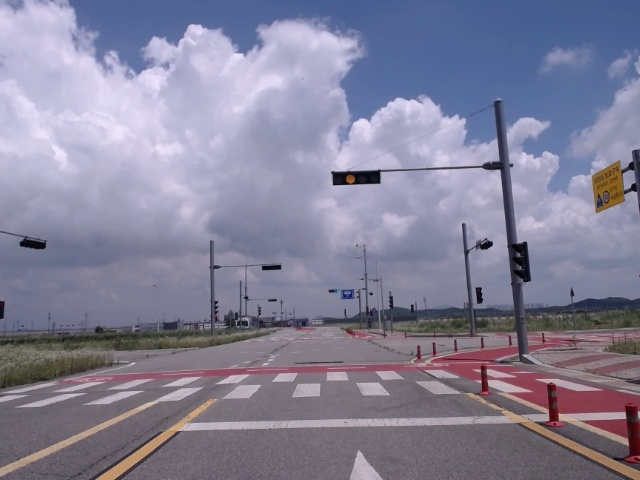orange_4: (334, 172, 381, 185)
